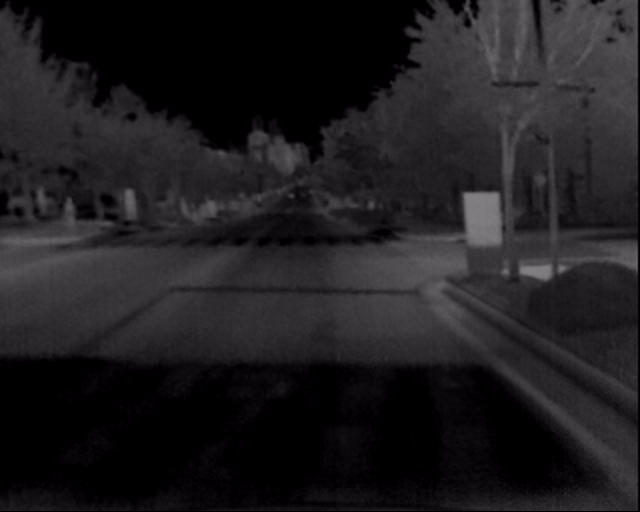person: (48, 197, 79, 247)
